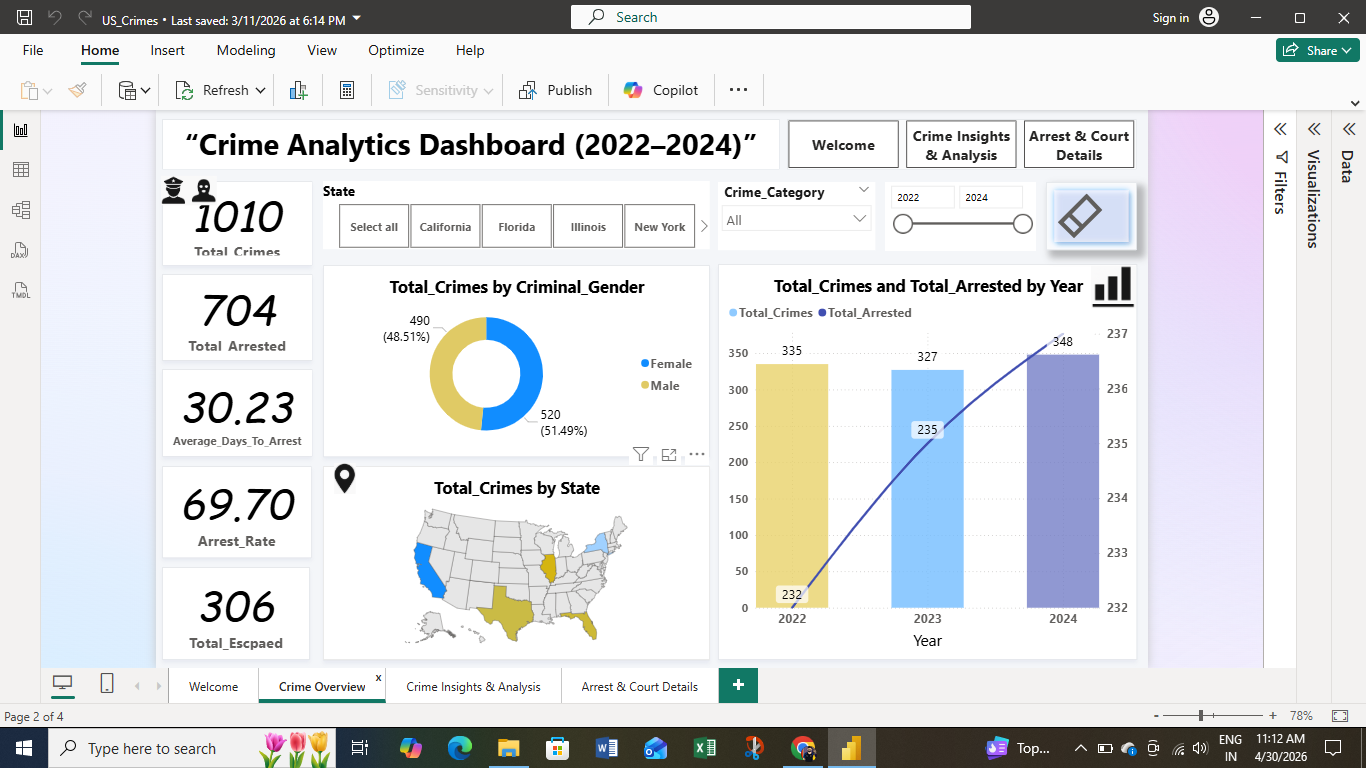

Layout of this report page (visuals, bound fields, positions):
{"tool":"powerbi","page":{"name":"Crime Overview","canvas":[1280,720],"ordinal":1},"visuals":[{"type":"lineStackedColumnComboChart","fields":{"Category":["Crimes.Date_of_Crime.Variation.Date Hierarchy.Year","Crimes.Date_of_Crime.Variation.Date Hierarchy.Quarter","Crimes.Date_of_Crime.Variation.Date Hierarchy.Month","Crimes.Date_of_Crime.Variation.Date Hierarchy.Day"],"Y":["measures (2).Total_Crimes"],"Y2":["measures (2).Total_Arrests"]},"box":[725,198.7,540.8,510.5],"z":0},{"type":"card","fields":{"Values":["measures (2).Arrest_Rate"]},"box":[7.2,459.4,192.8,118.8],"z":1000},{"type":"card","fields":{"Values":["measures (2).Total_Crimes"]},"box":[7.2,91.3,194.2,108.7],"z":2000},{"type":"textbox","box":[7.2,11.6,797.1,65.2],"z":3000},{"type":"card","fields":{"Values":["measures (2).Average_Time_To_Arrest"]},"box":[7.2,334.8,194.2,113],"z":4000},{"type":"card","fields":{"Values":["measures (2).Total_Arrests"]},"box":[7.2,211.6,194.2,111.6],"z":5000},{"type":"donutChart","fields":{"Y":["measures (2).Total_Crimes"],"Category":["Crimes.Criminal_Gender"]},"box":[215.9,200,498.6,247.8],"z":6000},{"type":"shapeMap","fields":{"Category":["Locations.State"],"Value":["measures (2).Total_Crimes"]},"box":[215.9,459.4,498.6,250.7],"z":7000},{"type":"slicer","fields":{"Values":["Crimes.Year_Of_Crime"]},"box":[940.6,92.8,194.2,88.4],"z":8000},{"type":"slicer","title":"Crime Type","fields":{"Values":["CrimeType.Crime_Category"]},"box":[724.6,92.8,202.9,88.4],"z":9000},{"type":"slicer","title":"State","fields":{"Values":["Locations.State"]},"box":[215.9,91.3,498.6,88.4],"z":10000},{"type":"card","fields":{"Values":["measures (2).Total_Escpaed"]},"box":[7.2,589.9,191.3,120.3],"z":11000},{"type":"actionButton","title":"ClearAll Slicers","box":[1147.8,92.8,117.4,88.4],"z":12000},{"type":"pageNavigator","box":[814.5,11.6,450.7,65.2],"z":13000},{"type":"image","box":[7.1,70.9,72.3,65.2],"z":14000},{"type":"image","box":[225.4,455,35.4,39.7],"z":15000},{"type":"image","box":[1206.1,199.8,58.1,56.7],"z":16000}]}

Visuals, with their boxes on the page's 1280x720 design canvas (x1, y1, x2, y2). These are canvas units, not pixel positions in the 1366x768 screenshot, which may show the page scaled, cropped or inside an application window:
lineStackedColumnComboChart - Crimes.Date_of_Crime.Variation.Date Hierarchy.Year x Crimes.Date_of_Crime.Variation.Date Hierarchy.Quarter: [x1=725, y1=199, x2=1266, y2=709]
card - measures (2).Arrest_Rate: [x1=7, y1=459, x2=200, y2=578]
card - measures (2).Total_Crimes: [x1=7, y1=91, x2=201, y2=200]
textbox: [x1=7, y1=12, x2=804, y2=77]
card - measures (2).Average_Time_To_Arrest: [x1=7, y1=335, x2=201, y2=448]
card - measures (2).Total_Arrests: [x1=7, y1=212, x2=201, y2=323]
donutChart - measures (2).Total_Crimes x Crimes.Criminal_Gender: [x1=216, y1=200, x2=714, y2=448]
shapeMap - Locations.State x measures (2).Total_Crimes: [x1=216, y1=459, x2=714, y2=710]
slicer - Crimes.Year_Of_Crime: [x1=941, y1=93, x2=1135, y2=181]
"Crime Type" slicer: [x1=725, y1=93, x2=928, y2=181]
"State" slicer: [x1=216, y1=91, x2=714, y2=180]
card - measures (2).Total_Escpaed: [x1=7, y1=590, x2=198, y2=710]
"ClearAll Slicers" actionButton: [x1=1148, y1=93, x2=1265, y2=181]
pageNavigator: [x1=814, y1=12, x2=1265, y2=77]
image: [x1=7, y1=71, x2=79, y2=136]
image: [x1=225, y1=455, x2=261, y2=495]
image: [x1=1206, y1=200, x2=1264, y2=256]
